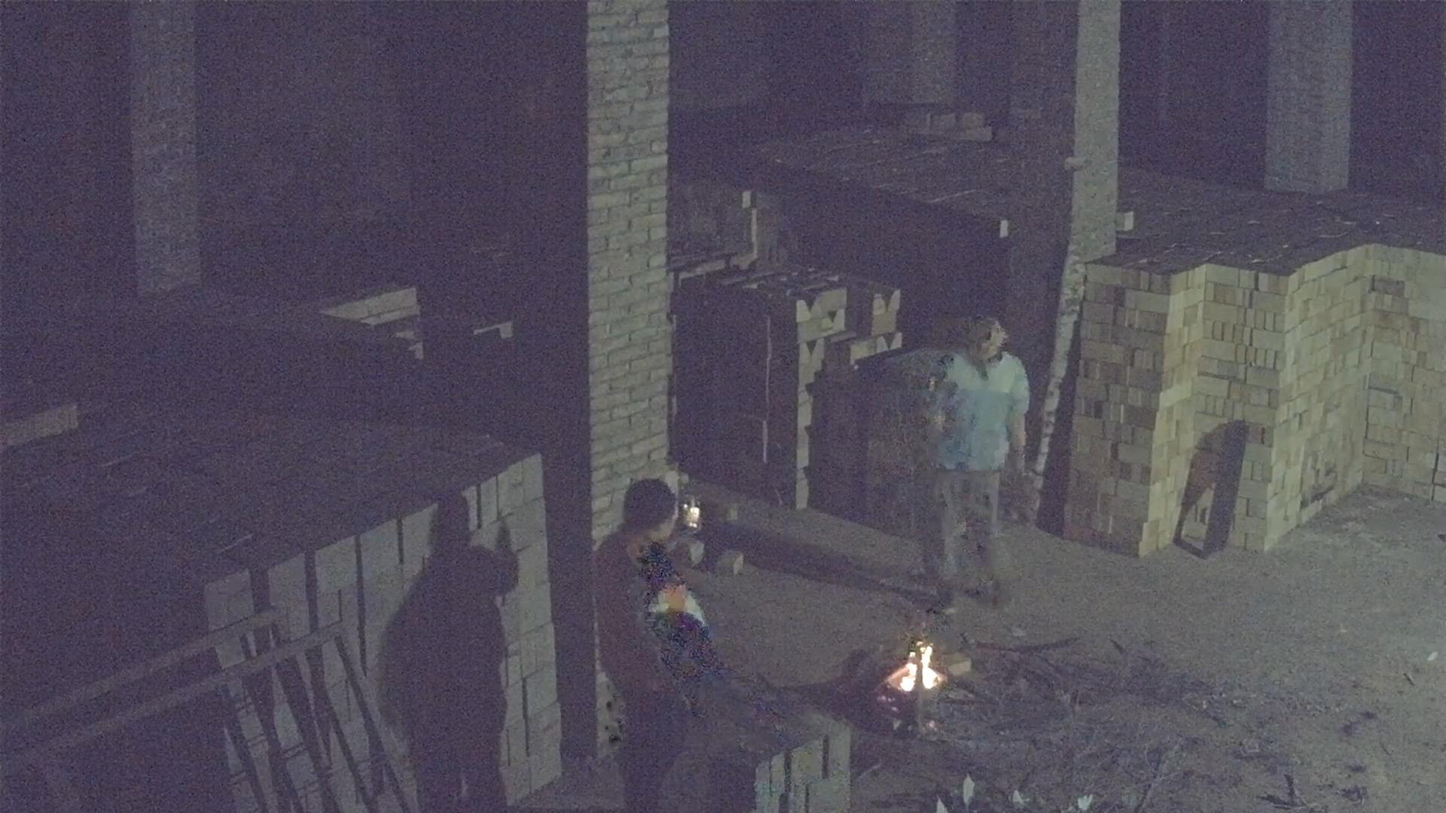fire: (886, 638, 945, 693)
